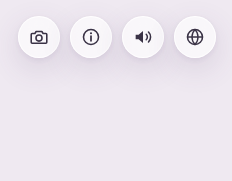
Scenario: LanguageMenu › moves through the items with the arrow keys and closes on Escape without reaching the app
The width and height of the screenshot is (232, 181).
Click the button with id "langBtn".
click(195, 37)  # box x1=174 y1=16 x2=216 y2=58
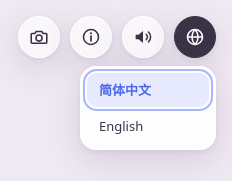
Press Arrowdown
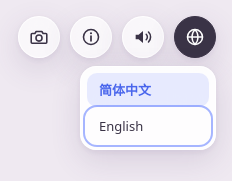
Press Arrowdown
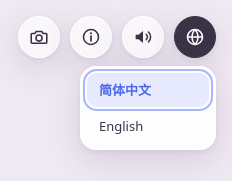
Press Arrowup
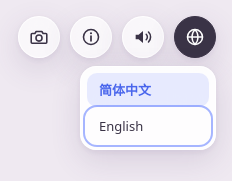
Press Escape
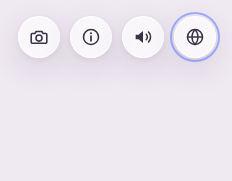
Result: the menu with id "langMenu" is gone
